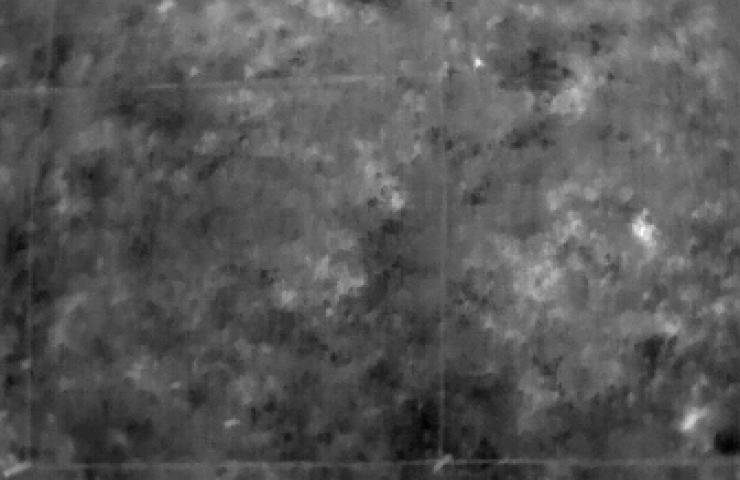landmines: (628, 212, 666, 249)
